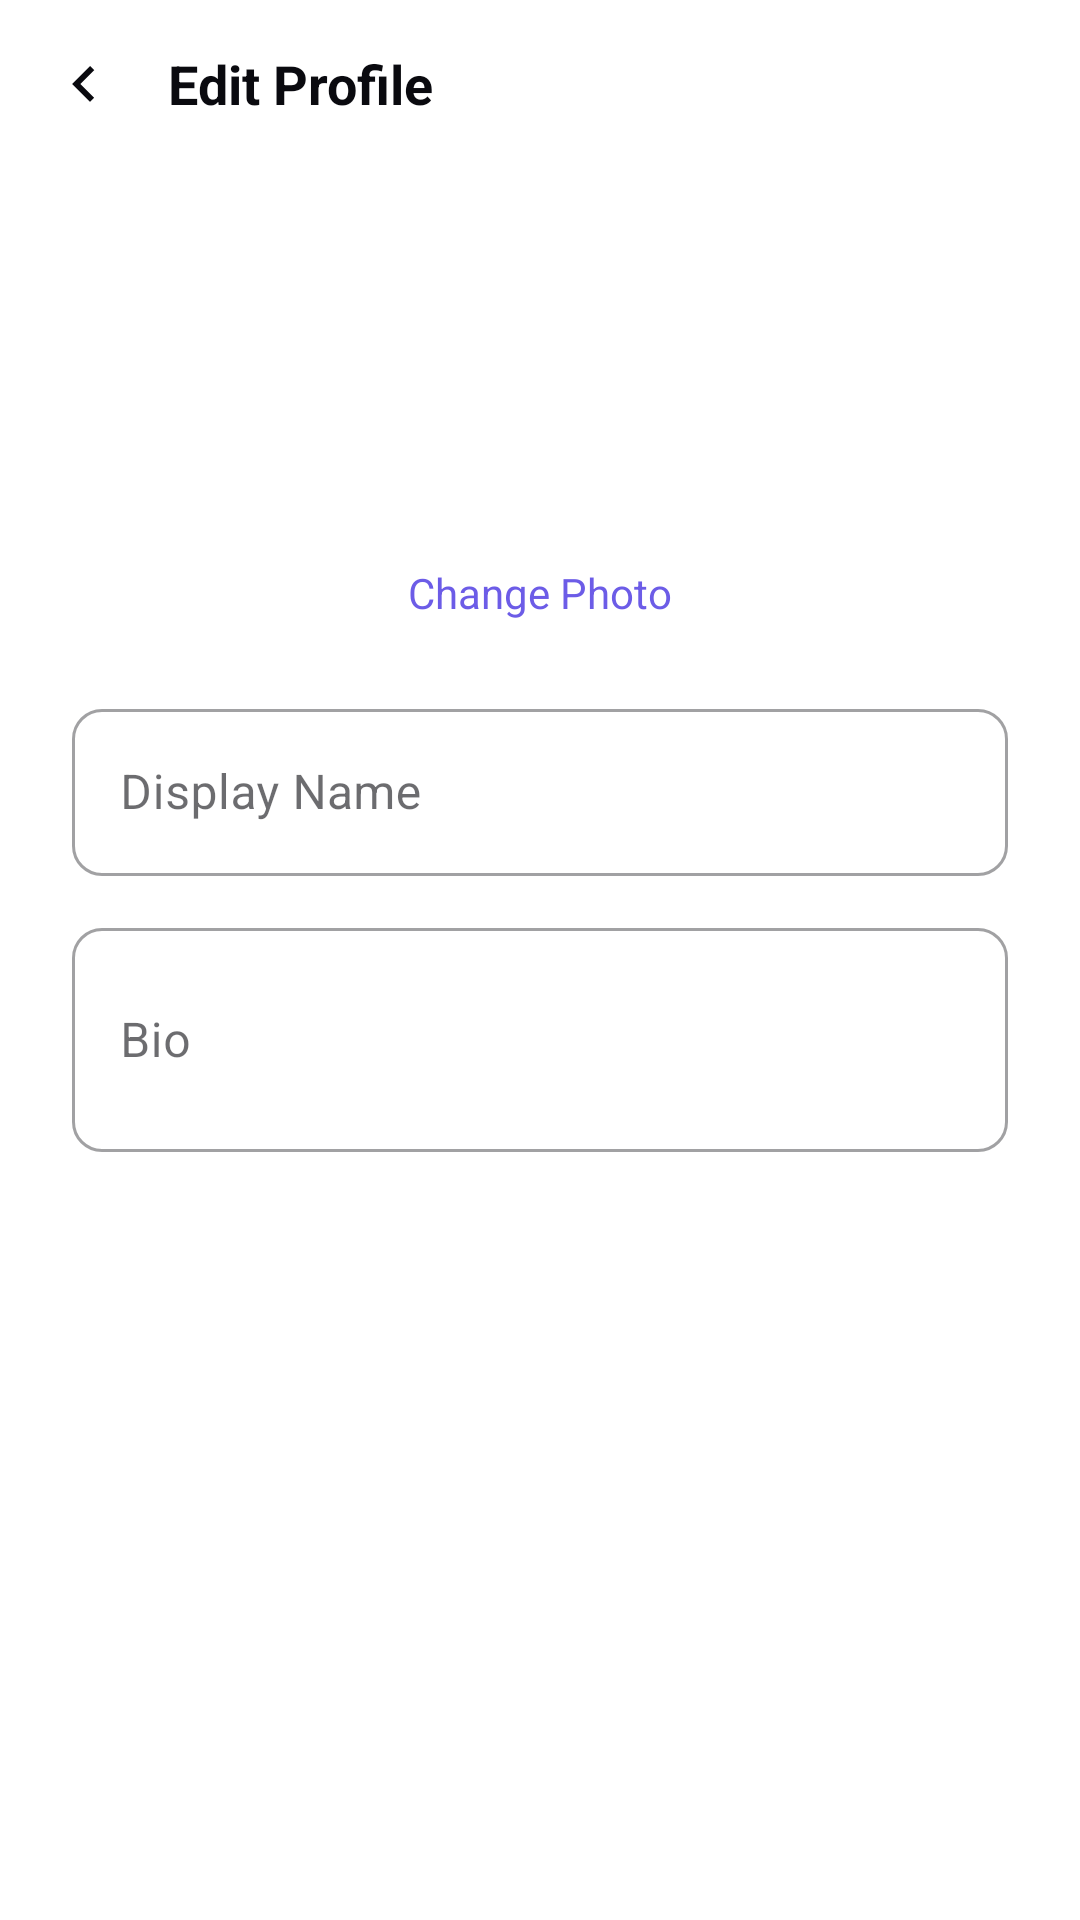

Icon click points for this 1080px×1920px phone screenshot, format point (x, y):
Back: point (83, 84)
